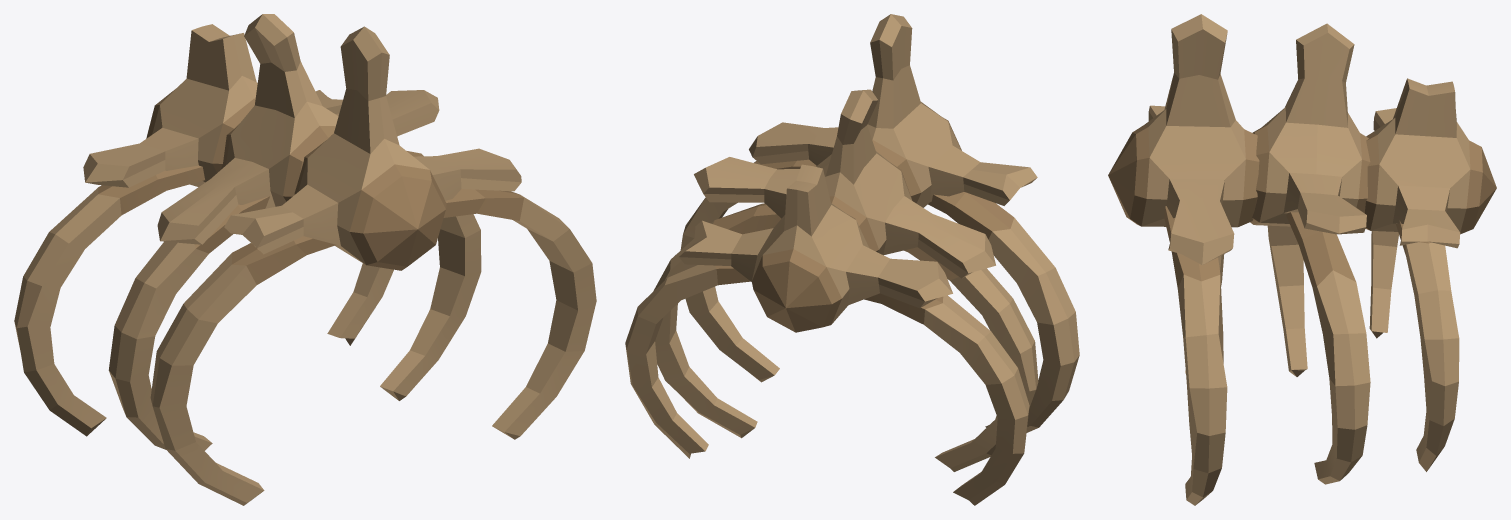
The model's file is SM_Env_Bone_Ribcage_01.obj.
3 views of the same model, side by side, from view 1: azimuth 30°, elevation 25°; view 2: azimuth 150°, elevation 25°; view 3: azimuth 270°, elevation 25° (orthographic). The views are drawn at different scales.
Visible parts, largest first — view 1: SM_Env_Bone_Ribcage_01_0; view 2: SM_Env_Bone_Ribcage_01_0; view 3: SM_Env_Bone_Ribcage_01_0.
Boxes of the visible parts, box(x1,y1,x2,y2) form: SM_Env_Bone_Ribcage_01_0: box(14, 14, 596, 505); SM_Env_Bone_Ribcage_01_0: box(625, 14, 1079, 505); SM_Env_Bone_Ribcage_01_0: box(1108, 14, 1496, 505).
Size of the model in its own units: 2.69 by 2.39 by 1.99.
1 material, 1 textured.
